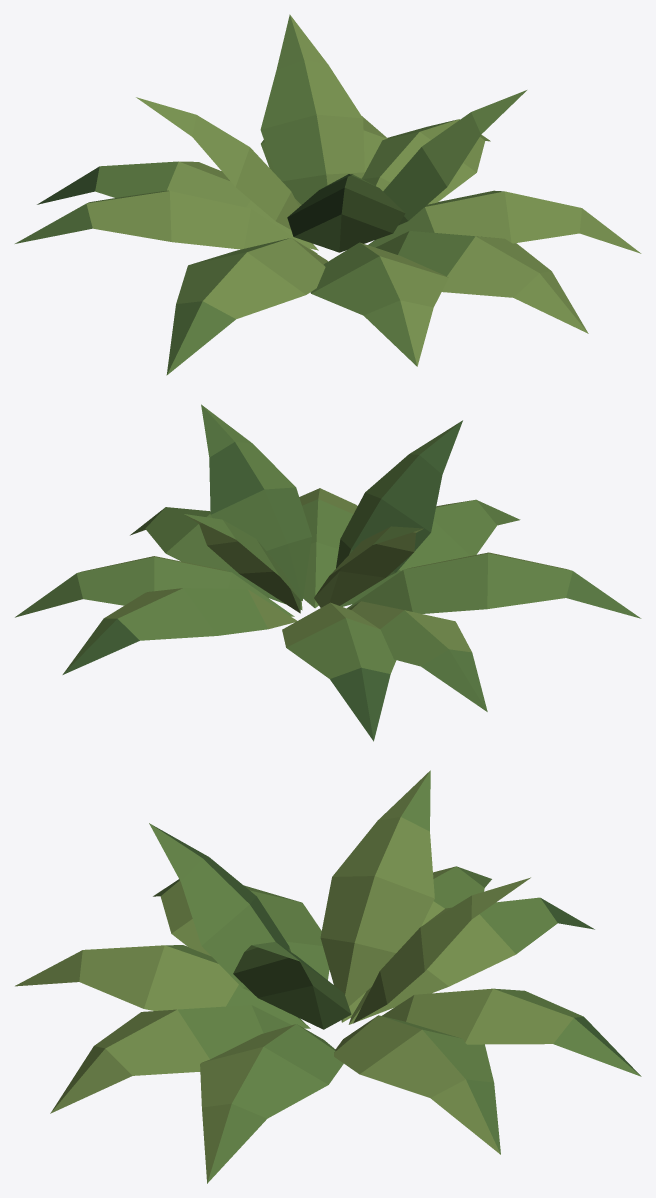
Rendered from plant_bush.glb.
3 views of the same model, one above another, from view 1: azimuth 30°, elevation 25°; view 2: azimuth 150°, elevation 25°; view 3: azimuth 270°, elevation 25° (orthographic). The views are drawn at different scales.
Visible parts, largest first — view 1: plant_bush.002; view 2: plant_bush.002; view 3: plant_bush.002.
Boxes of the visible parts, left/top/right/bottom form: plant_bush.002: left=15, top=14, right=641, bottom=375; plant_bush.002: left=15, top=404, right=641, bottom=741; plant_bush.002: left=15, top=770, right=641, bottom=1183.
Size of the model in its own units: 1.88 by 0.65 by 1.87.
